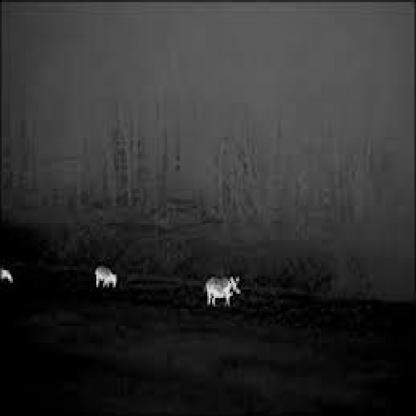rehkitze: (204, 273, 241, 309), (91, 263, 119, 290), (1, 264, 12, 283)
